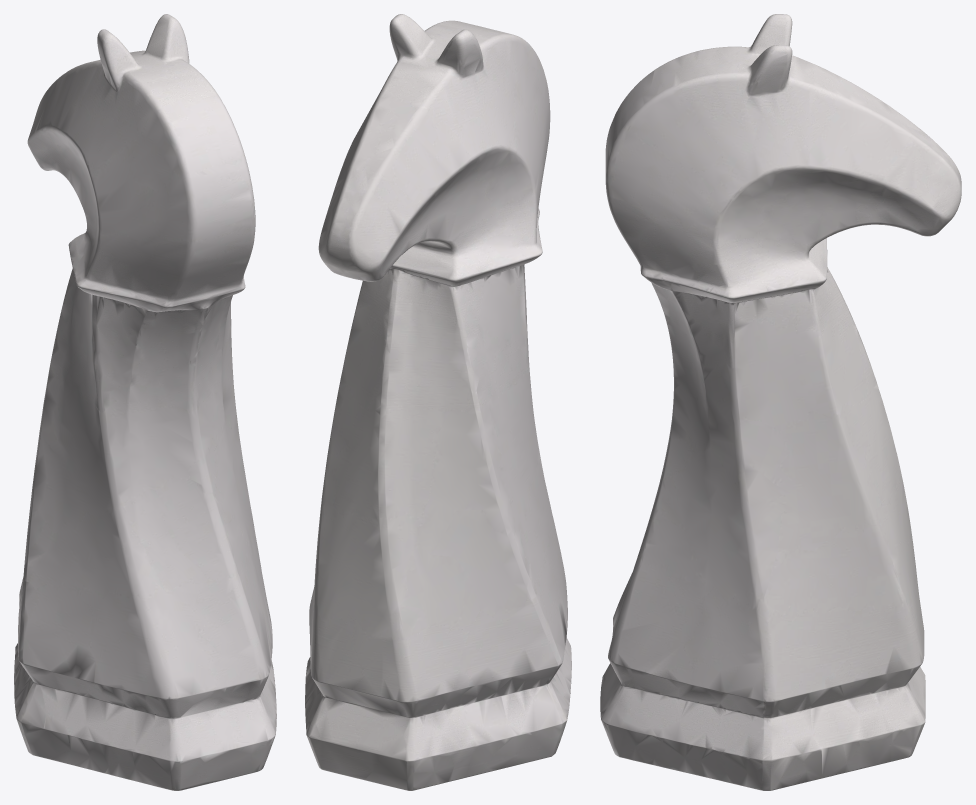
The model's file is knight-white-hd.glb.
The picture shows the model from 3 angles, left to right: view 1: azimuth 30°, elevation 25°; view 2: azimuth 150°, elevation 25°; view 3: azimuth 270°, elevation 25°; orthographic projection.
Bounding box in the file's own units: 0.4702 × 1.25 × 0.5802.
1 material, 1 textured.
